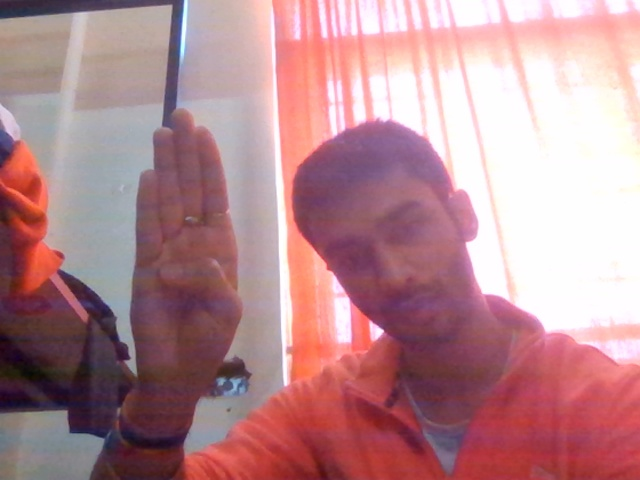B: (112, 101, 269, 430)
